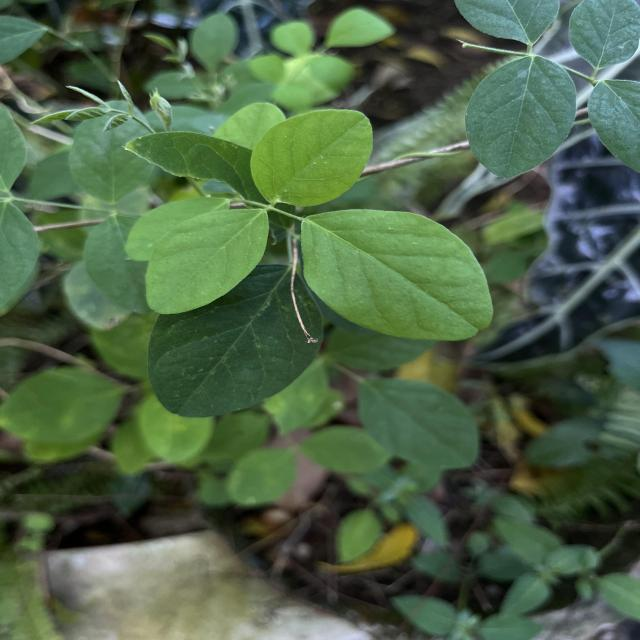Clitoria ternatea: (300, 208, 494, 342), (463, 54, 578, 180), (144, 207, 270, 316), (249, 107, 375, 208)
